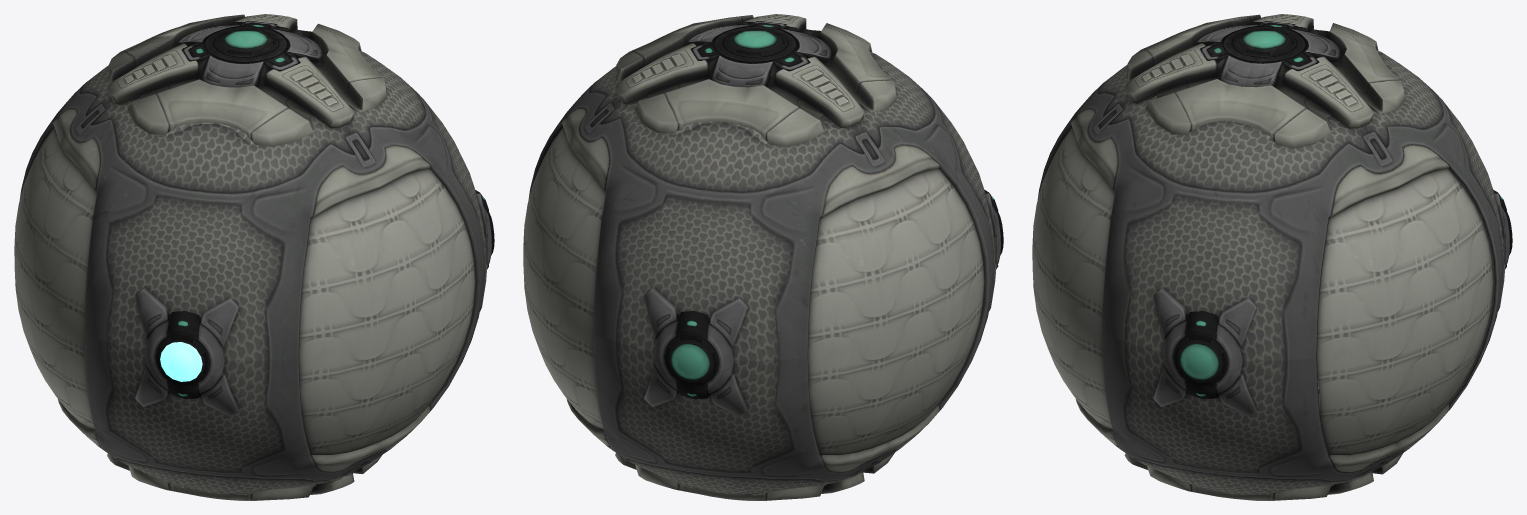
File: ball.glb
3 renders of one model, left to right at view 1: azimuth 30°, elevation 25°; view 2: azimuth 150°, elevation 25°; view 3: azimuth 270°, elevation 25°, orthographic.
Visible parts, largest first — view 1: bola_Mat.3_0, bola_Mat.4_0; view 2: bola_Mat.3_0; view 3: bola_Mat.3_0.
Part boxes in pixels (box(x1,y1,x2,y2)): bola_Mat.3_0: box(14, 14, 494, 500); bola_Mat.4_0: box(160, 342, 202, 381); bola_Mat.3_0: box(523, 14, 1003, 500); bola_Mat.3_0: box(1032, 14, 1512, 500).
Bounding box in the file's own units: 1.92 × 1.96 × 1.91.
Materials: 2 (1 with a texture image).
